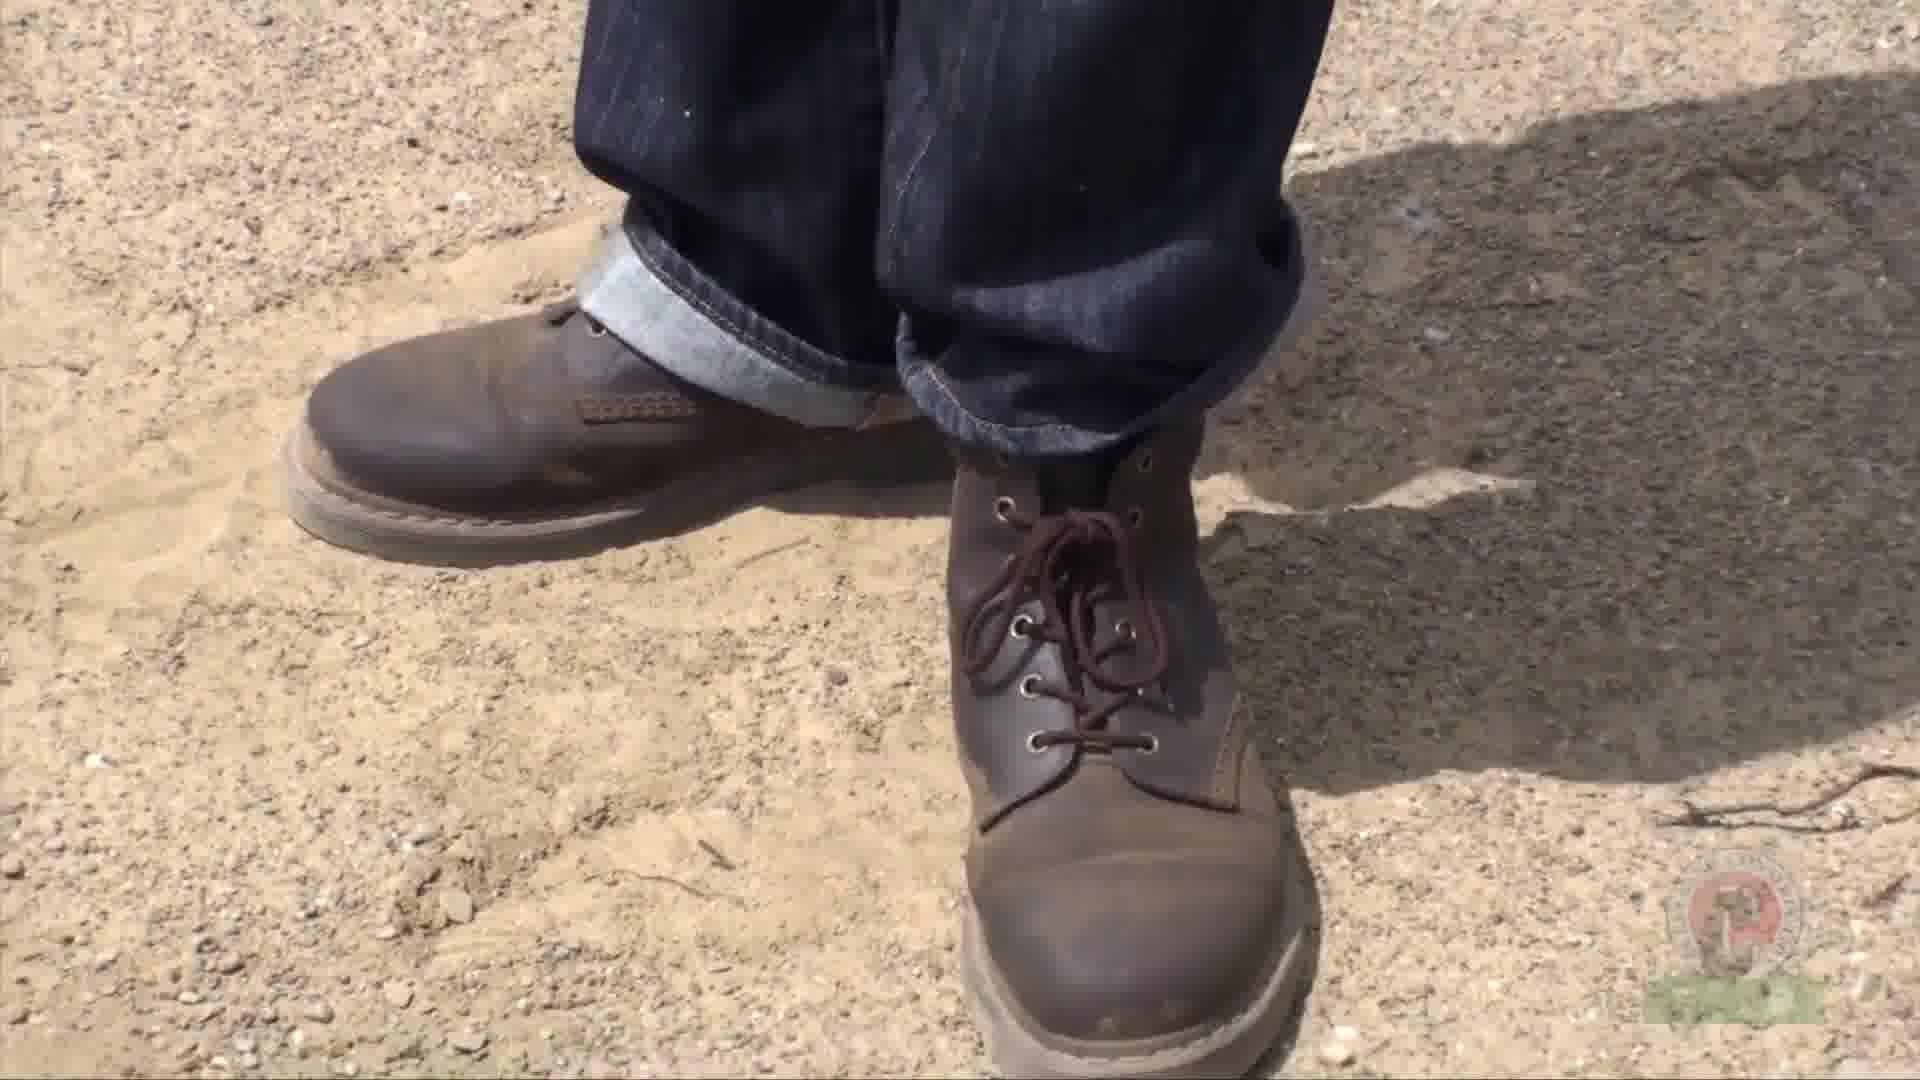safety boot: (258, 94, 1360, 1079)
